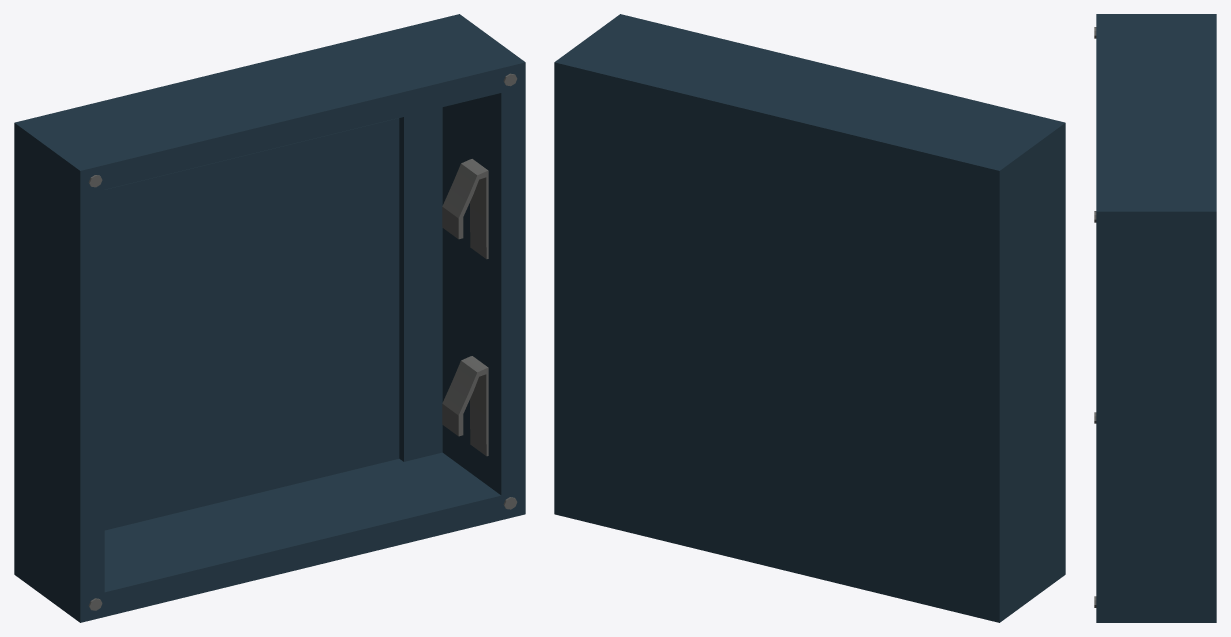
The model's file is batterybox.fbx.
The picture shows the model from 3 angles, left to right: view 1: azimuth 30°, elevation 25°; view 2: azimuth 150°, elevation 25°; view 3: azimuth 270°, elevation 25°; orthographic projection. The views are drawn at different scales.
Visible parts, largest first — view 1: BoxWire.001; view 2: BoxWire.001; view 3: BoxWire.001.
Boxes of the visible parts, x1,y1,x2,y2 form: BoxWire.001: (14, 14, 525, 622); BoxWire.001: (554, 14, 1065, 622); BoxWire.001: (1094, 14, 1216, 622).
Bounding box in the file's own units: 81.19 × 78.74 × 21.17.
